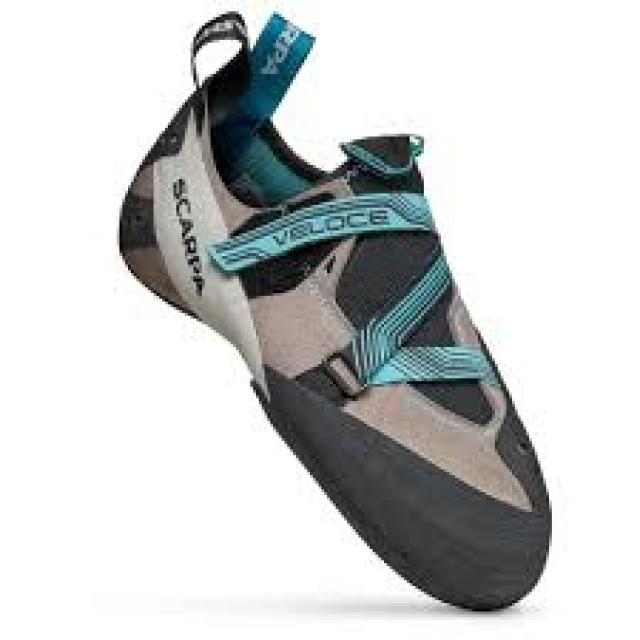climbing-shoes: (117, 10, 551, 612)
